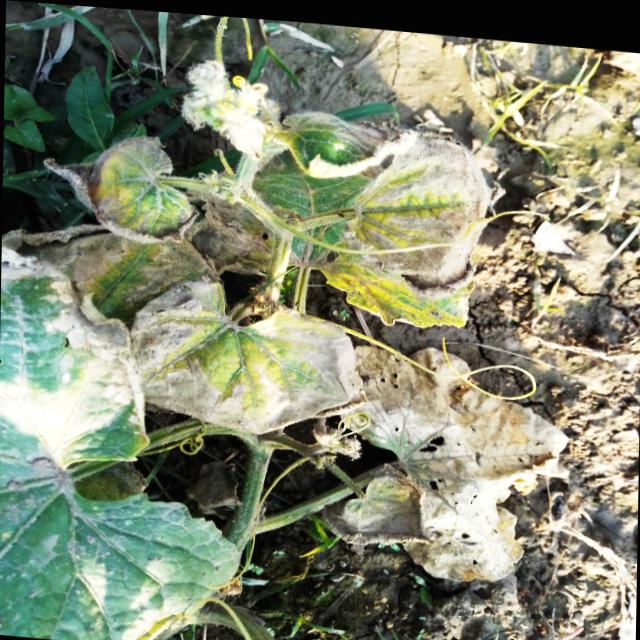Bacterial-Wilt: (339, 338, 569, 574)
